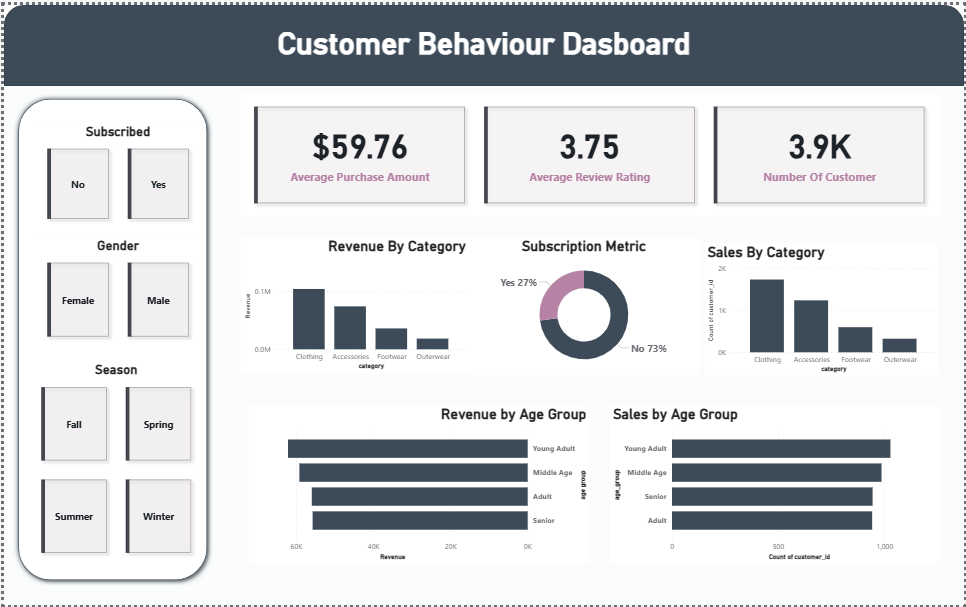

What the dashboard file says about the page in this screenshot:
{"tool":"powerbi","page":{"name":"Page 1","canvas":[1600,1000],"ordinal":0},"visuals":[{"type":"cardVisual","fields":{"Data":["customer.Average Purchase Amount","customer.Average Review Rating","customer.Number Of Customer"]},"box":[395,147.5,1162.5,205],"z":0},{"type":"shape","box":[0,0,1600,135],"z":1000},{"type":"donutChart","title":"Subscription Metric","fields":{"Category":["customer.subscription_status"],"Y":["CountNonNull(customer.customer_id)"]},"box":[775,387.5,382.5,230],"z":2000},{"type":"clusteredColumnChart","title":"Revenue By Category","fields":{"Y":["Sum(customer.purchase_amount)"],"Category":["customer.category"]},"box":[395,387.5,380,225],"z":3000},{"type":"clusteredColumnChart","title":"Sales By Category","fields":{"Category":["customer.category"],"Y":["CountNonNull(customer.customer_id)"]},"box":[1167.5,397.5,390,220],"z":4000},{"type":"shape","box":[15,147.5,332.5,820],"z":5000},{"type":"advancedSlicerVisual","title":"Gender","fields":{"Values":["customer.gender"]},"box":[56,388,270,182],"z":6000},{"type":"clusteredBarChart","title":"Revenue by Age Group","fields":{"Y":["Sum(customer.purchase_amount)"],"Category":["customer.age_group"]},"box":[408,668,568,262],"z":7000},{"type":"clusteredBarChart","title":"Sales by Age Group","fields":{"Category":["customer.age_group"],"Y":["CountNonNull(customer.customer_id)"]},"box":[1010,668,548,262],"z":8000},{"type":"advancedSlicerVisual","title":"Subscribed","fields":{"Values":["customer.subscription_status"]},"box":[54,198,270,176],"z":9000},{"type":"advancedSlicerVisual","title":"Season","fields":{"Values":["customer.season"]},"box":[44,594,284,336],"z":10000},{"type":"textbox","title":"Customer Behaviour Dasboard","box":[0,34,1600,102],"z":11000}]}

Visuals, with their boxes in screenshot pixels (x1, y1, x2, y2), scaled from the page's 1600x1000 canvas onto the 966x607 screenshot:
cardVisual - customer.Average Purchase Amount x customer.Average Review Rating: {"x1": 238, "y1": 90, "x2": 940, "y2": 214}
shape: {"x1": 0, "y1": 0, "x2": 965, "y2": 82}
"Subscription Metric" donutChart: {"x1": 468, "y1": 235, "x2": 699, "y2": 375}
"Revenue By Category" clusteredColumnChart: {"x1": 238, "y1": 235, "x2": 468, "y2": 372}
"Sales By Category" clusteredColumnChart: {"x1": 705, "y1": 241, "x2": 940, "y2": 375}
shape: {"x1": 9, "y1": 90, "x2": 210, "y2": 587}
"Gender" advancedSlicerVisual: {"x1": 34, "y1": 236, "x2": 197, "y2": 346}
"Revenue by Age Group" clusteredBarChart: {"x1": 246, "y1": 405, "x2": 589, "y2": 565}
"Sales by Age Group" clusteredBarChart: {"x1": 610, "y1": 405, "x2": 941, "y2": 565}
"Subscribed" advancedSlicerVisual: {"x1": 33, "y1": 120, "x2": 196, "y2": 227}
"Season" advancedSlicerVisual: {"x1": 27, "y1": 361, "x2": 198, "y2": 565}
"Customer Behaviour Dasboard" textbox: {"x1": 0, "y1": 21, "x2": 965, "y2": 83}
